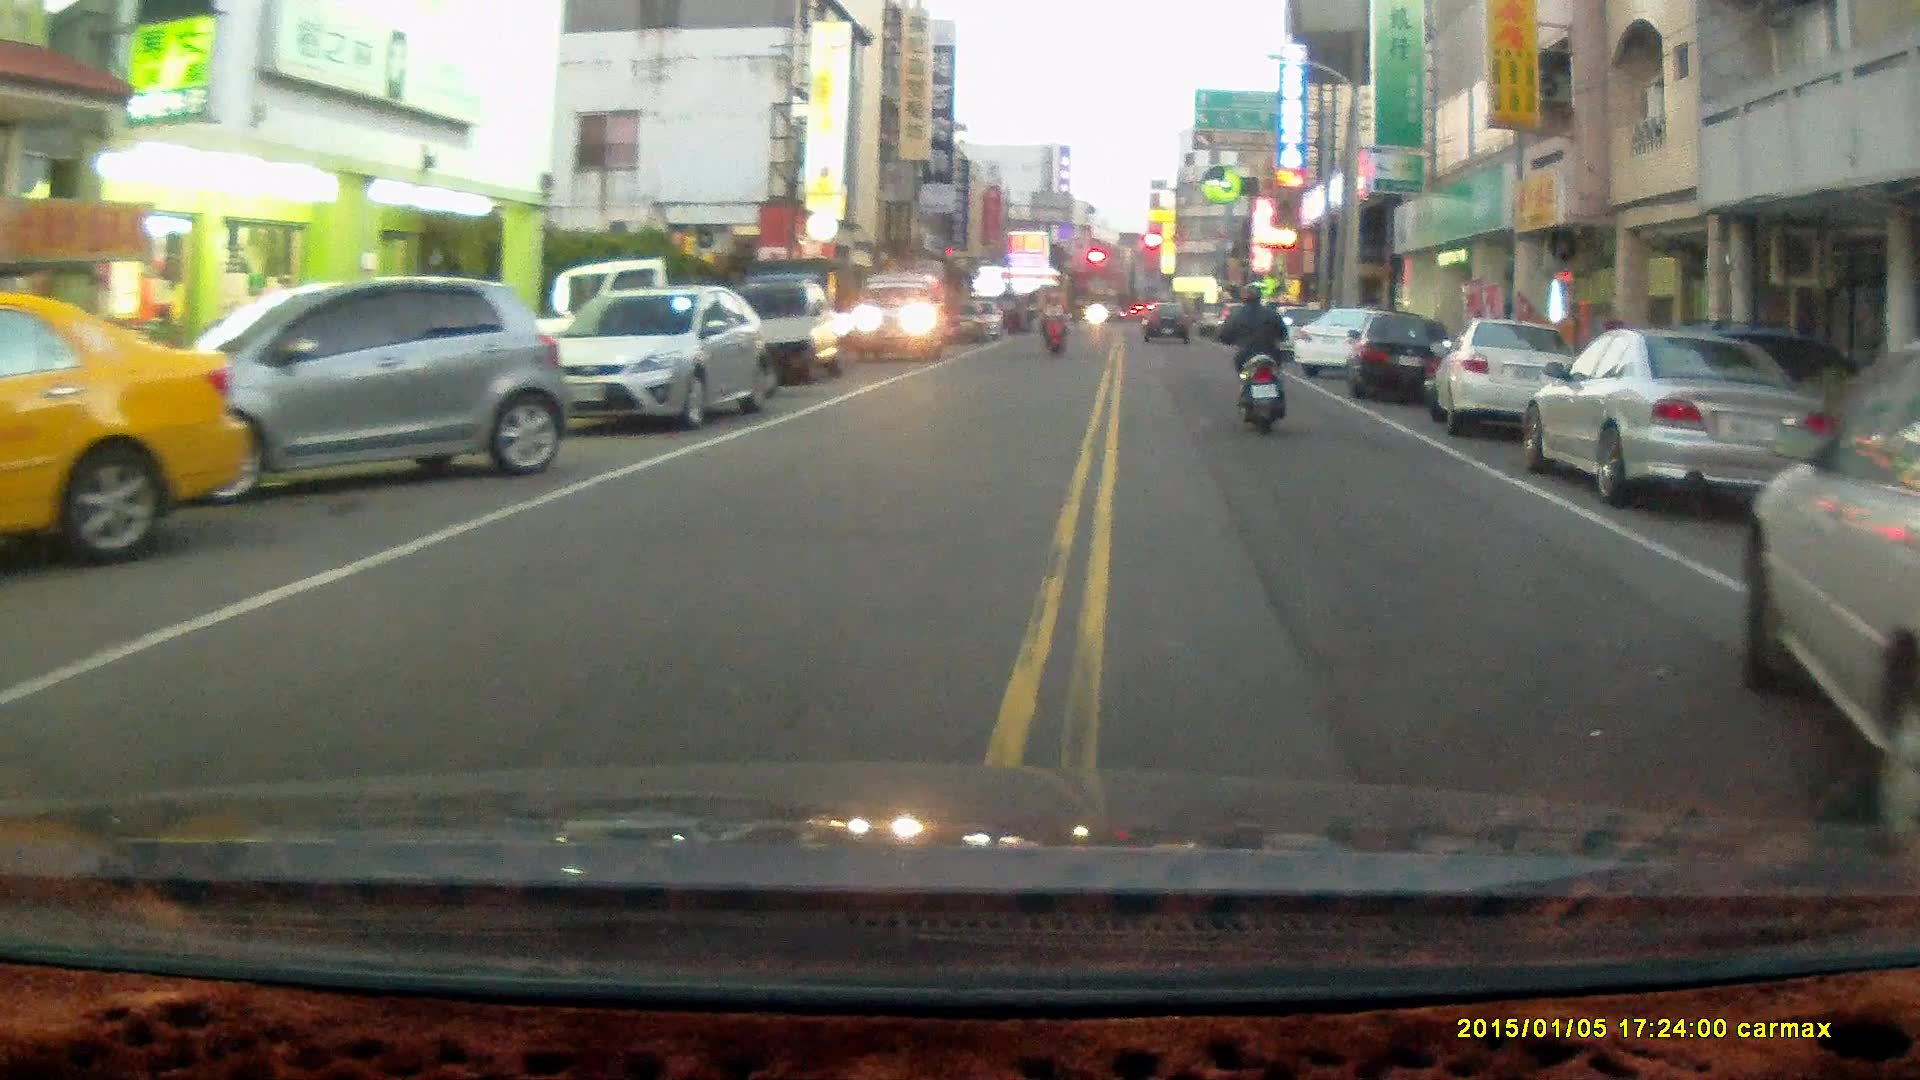rider: (1212, 282, 1287, 436), (1036, 287, 1066, 358)
vehicle: (130, 275, 556, 509), (1739, 341, 1919, 827), (1, 291, 244, 576), (1516, 323, 1838, 512), (543, 283, 778, 433), (1426, 317, 1570, 435), (720, 275, 864, 382), (851, 269, 945, 362)
